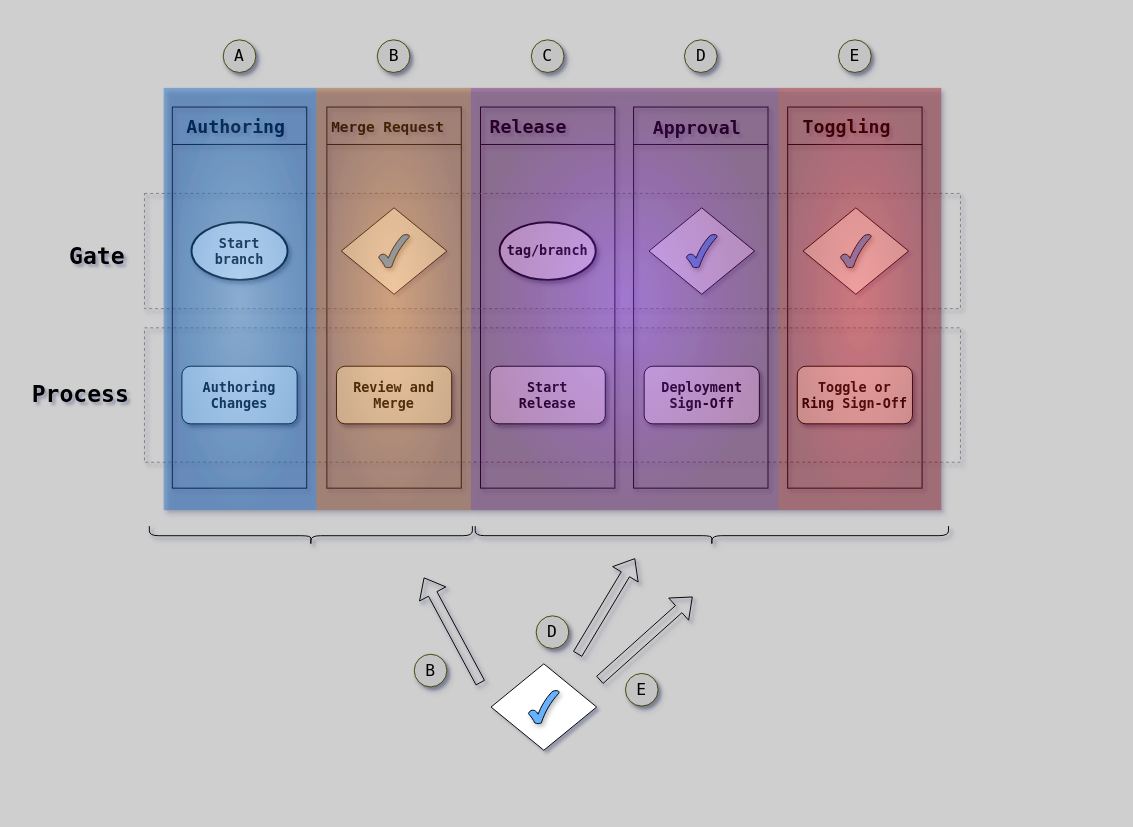
The diagram is 1133 pixels wide and 827 high, and some of its shapes have lost their labels. Each missing label, with the centre of its shape:
"CD" goes at pixel 712 537.
"CI+" goes at pixel 311 537.
